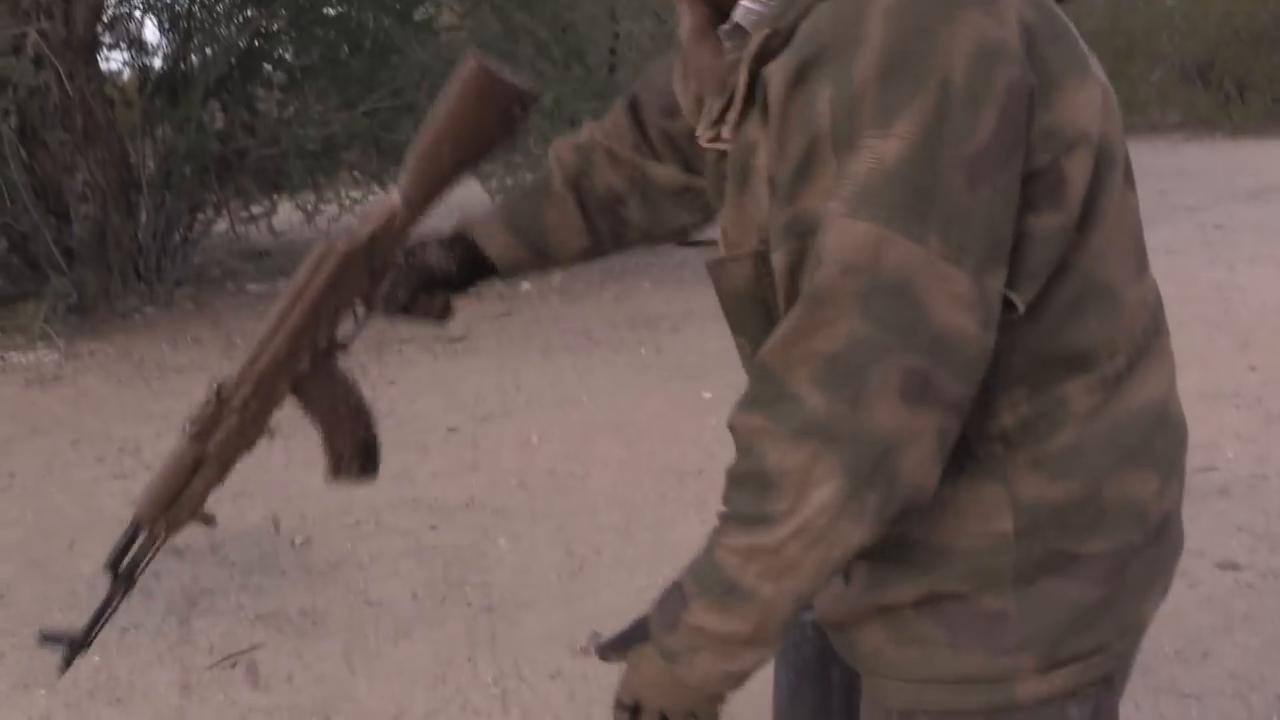AK47 Rifle: (37, 45, 541, 678)
